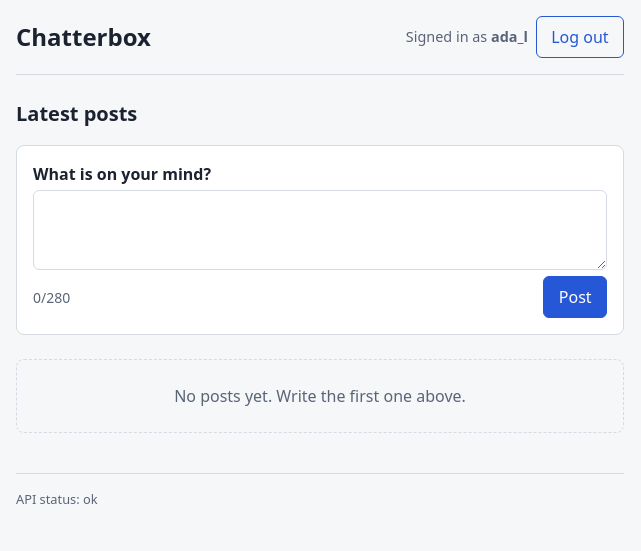
Test: App: authentication › AT-O4: shows a message and stays logged in if the logout request fails
Click the button "Log out": [580, 37] box left=536, top=16, right=624, bottom=58
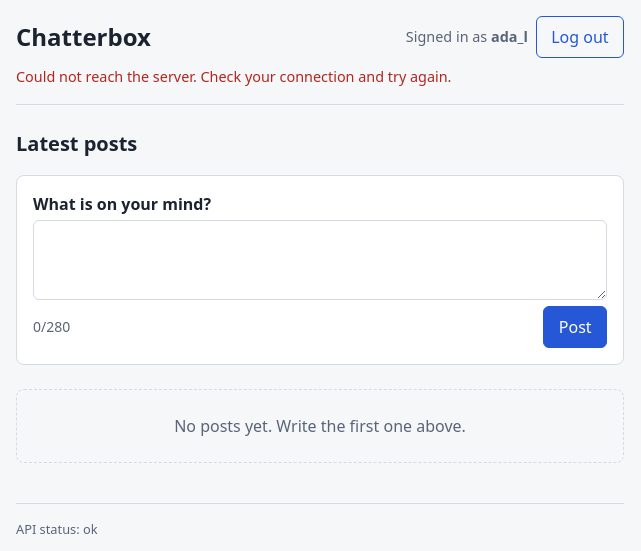
Check: the text "ada_l" is shown, box left=491, top=27, right=528, bottom=46
Check: the message shows "Could not reach the server", box left=16, top=67, right=452, bottom=86
